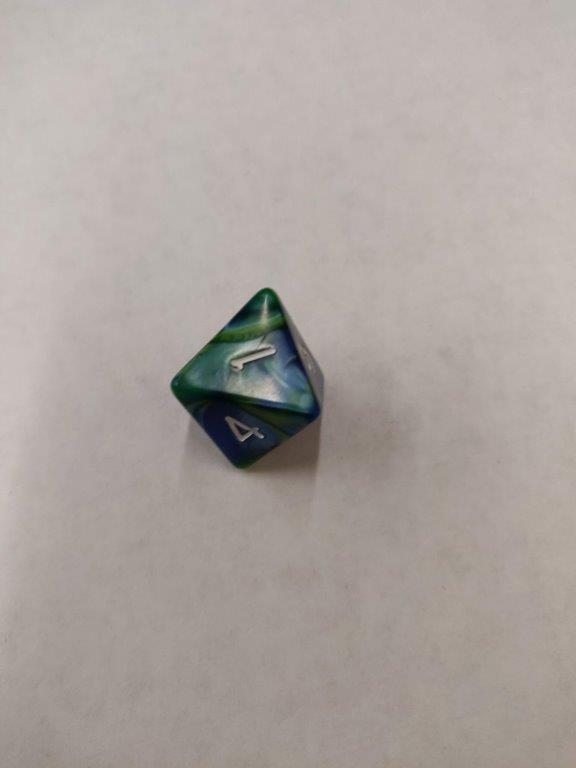d8-1: (170, 286, 327, 470)
